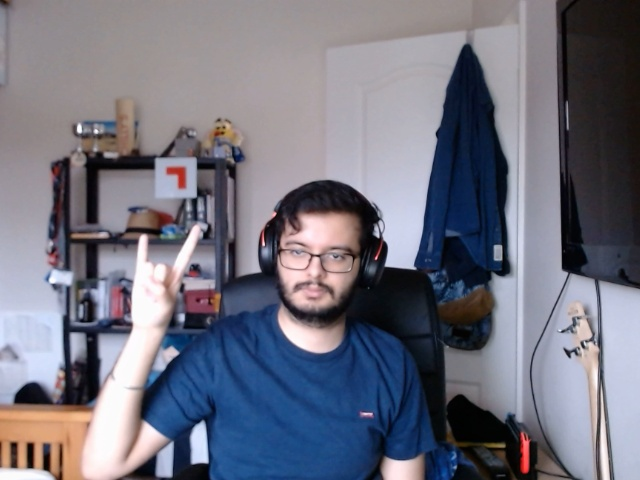Rock on: (111, 219, 222, 343)
